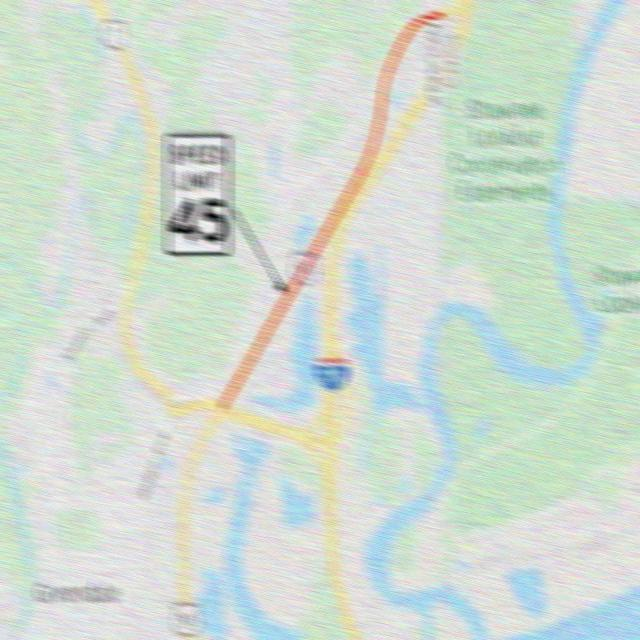speedLimit45: (163, 124, 235, 257)
